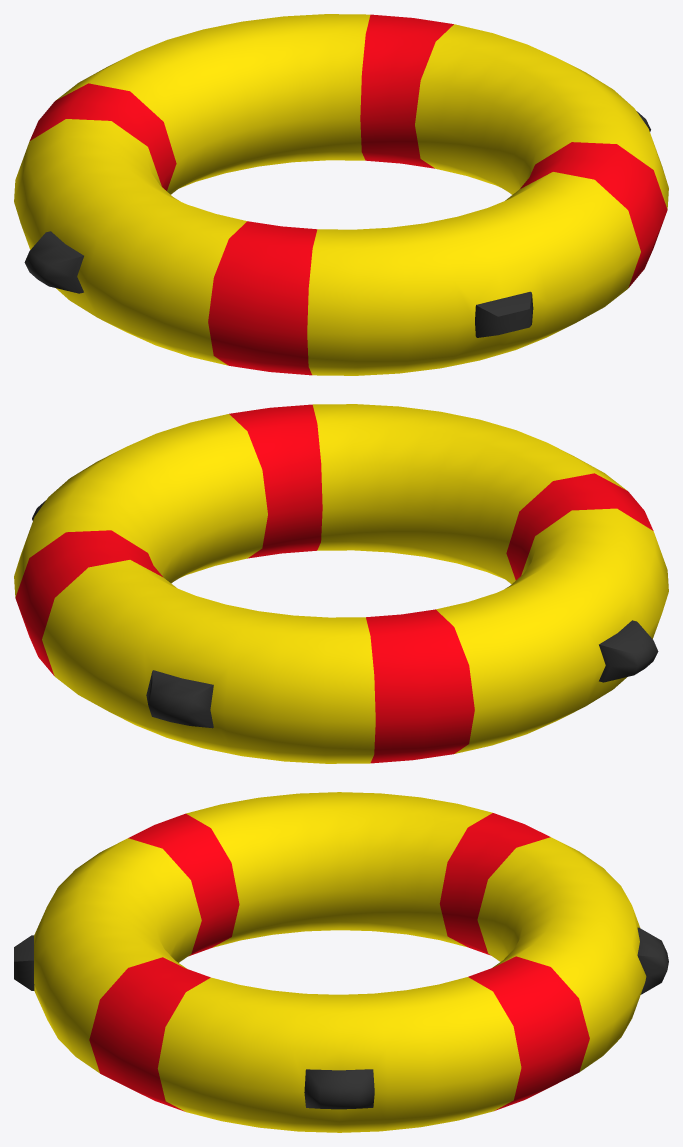
Rendered from Lifebuoy.fbx.
3 renders of one model, top to bottom at view 1: azimuth 30°, elevation 25°; view 2: azimuth 150°, elevation 25°; view 3: azimuth 270°, elevation 25°, orthographic. The views are drawn at different scales.
Parts seen in each view (by area): view 1: lifebuoy; view 2: lifebuoy; view 3: lifebuoy.
Part boxes in pixels (bbox=[...]): lifebuoy: bbox=[14, 14, 668, 375]; lifebuoy: bbox=[14, 404, 668, 763]; lifebuoy: bbox=[14, 792, 668, 1132].
Bounding box in the file's own units: 149 × 30.07 × 147.
